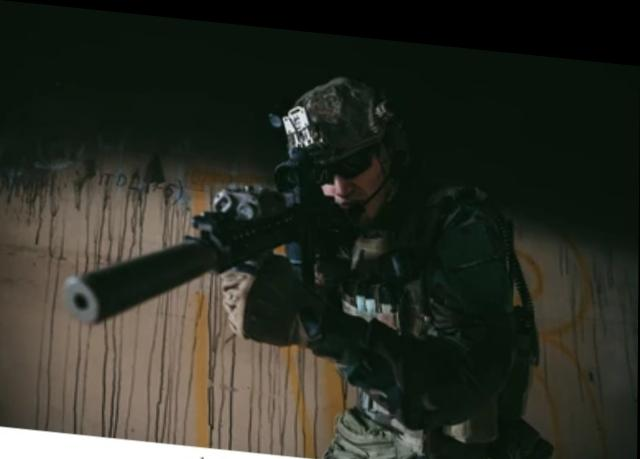other: (232, 64, 539, 458)
